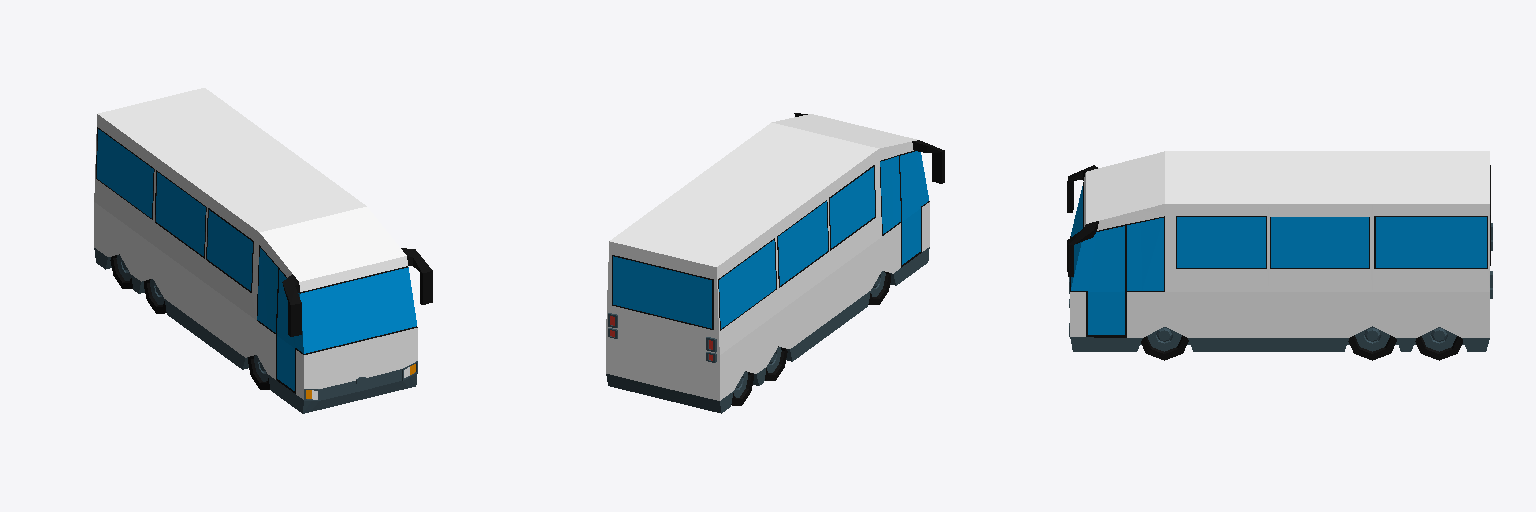
File: Bus_01.obj
3 views of the same model, side by side, from view 1: azimuth 30°, elevation 25°; view 2: azimuth 150°, elevation 25°; view 3: azimuth 270°, elevation 25° (orthographic).
Parts seen in each view (by area): view 1: bus_Cube.027; view 2: bus_Cube.027; view 3: bus_Cube.027.
Boxes of the visible parts, x1=… form: bus_Cube.027: x1=94, y1=88, x2=432, y2=413; bus_Cube.027: x1=606, y1=113, x2=944, y2=413; bus_Cube.027: x1=1067, y1=151, x2=1492, y2=360.
Bounding box in the file's own units: 9.16 × 9.68 × 23.75.